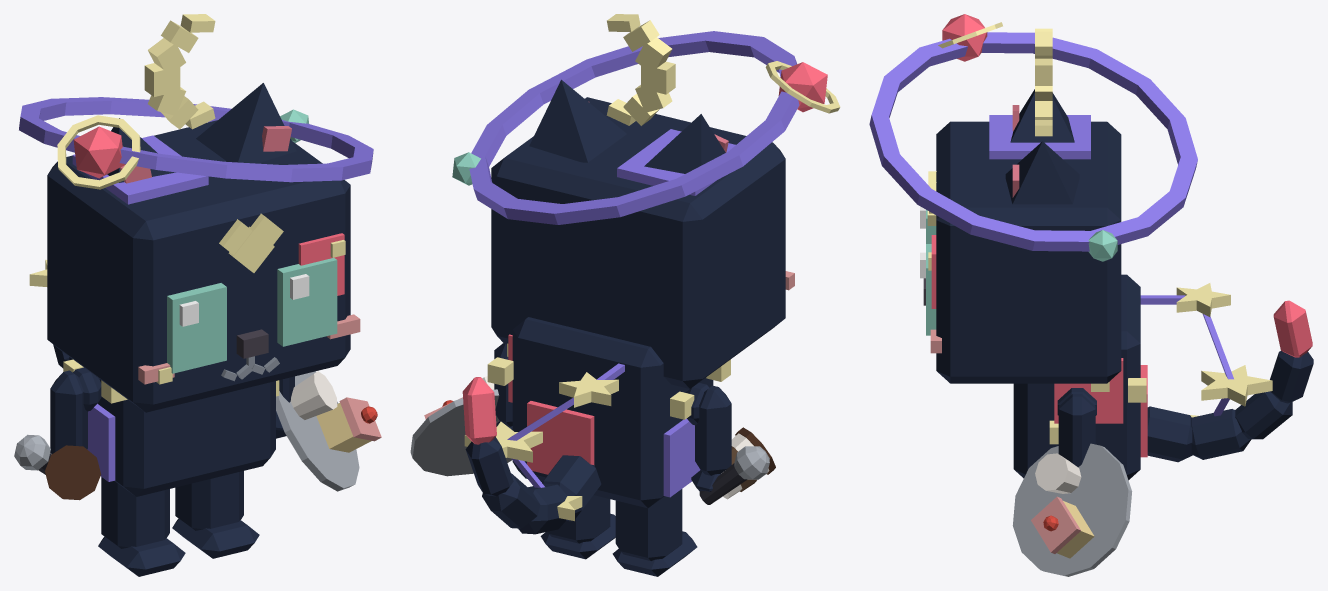
File: CatCafe_Cat_Nebula_Work.fbx
The picture shows the model from 3 angles, left to right: view 1: azimuth 30°, elevation 25°; view 2: azimuth 150°, elevation 25°; view 3: azimuth 270°, elevation 25°; orthographic projection. The views are drawn at different scales.
Parts seen in each view (by area): view 1: CatCafe_Cat_Nebula_Work_Head, CatCafe_Cat_Nebula_Work_Body, CatCafe_Cat_Nebula_Work_Glow, CatCafe_Cat_Nebula_Work_Held_Waiter, CatCafe_Cat_Nebula_Work_LegB2, CatCafe_Cat_Nebula_Work_LegB1, CatCafe_Cat_Nebula_Work_Eye1, CatCafe_Cat_Nebula_Work_Eye2, CatCafe_Cat_Nebula_Work_EarL, CatCafe_Cat_Nebula_Work_Prop, CatCafe_Cat_Nebula_Work_LegF2, CatCafe_Cat_Nebula_Work_Held_Barista (+2 smaller); view 2: CatCafe_Cat_Nebula_Work_Head, CatCafe_Cat_Nebula_Work_Body, CatCafe_Cat_Nebula_Work_Glow, CatCafe_Cat_Nebula_Work_Tail, CatCafe_Cat_Nebula_Work_LegB2, CatCafe_Cat_Nebula_Work_EarL, CatCafe_Cat_Nebula_Work_Stars_Glow, CatCafe_Cat_Nebula_Work_Held_Waiter, CatCafe_Cat_Nebula_Work_LegF2, CatCafe_Cat_Nebula_Work_Prop, CatCafe_Cat_Nebula_Work_LegB1, CatCafe_Cat_Nebula_Work_EarR (+3 smaller); view 3: CatCafe_Cat_Nebula_Work_Head, CatCafe_Cat_Nebula_Work_Glow, CatCafe_Cat_Nebula_Work_Held_Waiter, CatCafe_Cat_Nebula_Work_Body, CatCafe_Cat_Nebula_Work_Tail, CatCafe_Cat_Nebula_Work_Stars_Glow, CatCafe_Cat_Nebula_Work_EarL, CatCafe_Cat_Nebula_Work_LegF1, CatCafe_Cat_Nebula_Work_Prop, CatCafe_Cat_Nebula_Work_EarR, CatCafe_Cat_Nebula_Work_Eye1.
Boxes of the visible parts, box(x1,y1,x2,y2) form: CatCafe_Cat_Nebula_Work_Head: box(47, 120, 360, 412); CatCafe_Cat_Nebula_Work_Body: box(63, 357, 279, 496); CatCafe_Cat_Nebula_Work_Glow: box(19, 14, 373, 182); CatCafe_Cat_Nebula_Work_Held_Waiter: box(276, 371, 381, 491); CatCafe_Cat_Nebula_Work_LegB2: box(98, 477, 185, 576); CatCafe_Cat_Nebula_Work_LegB1: box(172, 471, 259, 558); CatCafe_Cat_Nebula_Work_Eye1: box(277, 258, 337, 346); CatCafe_Cat_Nebula_Work_Eye2: box(167, 283, 226, 373); CatCafe_Cat_Nebula_Work_EarL: box(196, 83, 296, 163); CatCafe_Cat_Nebula_Work_Prop: box(57, 109, 308, 189); CatCafe_Cat_Nebula_Work_LegF2: box(50, 370, 87, 453); CatCafe_Cat_Nebula_Work_Held_Barista: box(45, 445, 101, 500); CatCafe_Cat_Nebula_Work_Head: box(491, 97, 794, 388); CatCafe_Cat_Nebula_Work_Body: box(487, 317, 730, 508); CatCafe_Cat_Nebula_Work_Glow: box(469, 14, 799, 224); CatCafe_Cat_Nebula_Work_Tail: box(462, 377, 601, 534); CatCafe_Cat_Nebula_Work_LegB2: box(612, 489, 697, 576); CatCafe_Cat_Nebula_Work_EarL: box(529, 79, 626, 162); CatCafe_Cat_Nebula_Work_Stars_Glow: box(464, 372, 618, 521); CatCafe_Cat_Nebula_Work_Held_Waiter: box(410, 376, 511, 476); CatCafe_Cat_Nebula_Work_LegF2: box(691, 385, 731, 491); CatCafe_Cat_Nebula_Work_Prop: box(452, 61, 840, 185); CatCafe_Cat_Nebula_Work_LegB1: box(540, 495, 615, 559); CatCafe_Cat_Nebula_Work_EarR: box(644, 114, 728, 173); CatCafe_Cat_Nebula_Work_Head: box(923, 115, 1121, 383); CatCafe_Cat_Nebula_Work_Glow: box(869, 28, 1197, 251); CatCafe_Cat_Nebula_Work_Held_Waiter: box(1012, 443, 1132, 576); CatCafe_Cat_Nebula_Work_Body: box(1013, 274, 1147, 480); CatCafe_Cat_Nebula_Work_Tail: box(1147, 300, 1313, 462); CatCafe_Cat_Nebula_Work_Stars_Glow: box(1176, 283, 1272, 417); CatCafe_Cat_Nebula_Work_EarL: box(1005, 141, 1079, 204); CatCafe_Cat_Nebula_Work_LegF1: box(1058, 394, 1095, 467); CatCafe_Cat_Nebula_Work_Prop: box(938, 14, 1117, 261); CatCafe_Cat_Nebula_Work_EarR: box(1010, 89, 1074, 142); CatCafe_Cat_Nebula_Work_Eye1: box(920, 244, 936, 335).
Size of the model in its own units: 1.59 by 2.27 by 1.83.
1 material, 1 textured.
